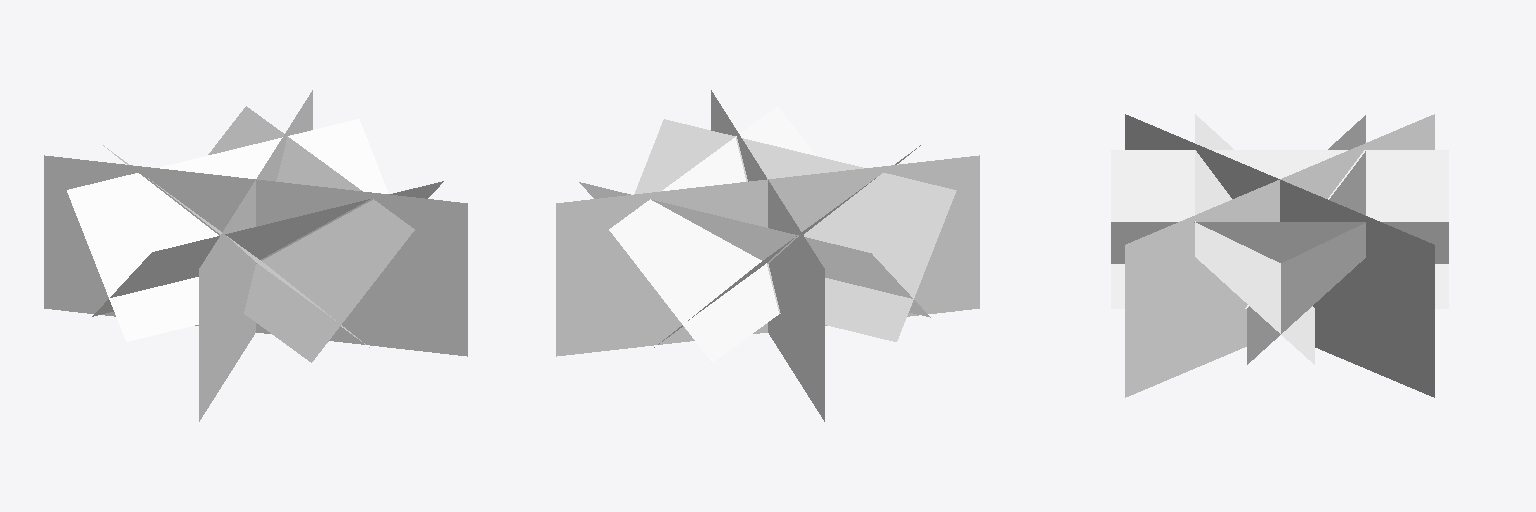
The model's file is spruce_half_top.obj.
3 renders of one model, left to right at view 1: azimuth 30°, elevation 25°; view 2: azimuth 150°, elevation 25°; view 3: azimuth 270°, elevation 25°, orthographic.
Parts seen in each view (by area): view 1: cube.000, cube.001, cube.002, cube, cube.003, cube.004; view 2: cube, cube.003, cube.002, cube.000, cube.001, cube.004; view 3: cube.000, cube, cube.004, cube.003, cube.001, cube.002.
Part boxes in pixels (x1,y1,x2,y2): cube.000: (44,155,467,356); cube.001: (67,119,388,341); cube.002: (208,106,414,362); cube: (199,90,312,421); cube.003: (92,181,443,316); cube.004: (103,145,369,347); cube: (556,155,979,356); cube.003: (635,119,956,341); cube.002: (609,106,815,362); cube.000: (711,90,824,421); cube.001: (579,182,930,317); cube.004: (654,145,920,347); cube.000: (1125,114,1434,397); cube: (1125,114,1434,397); cube.004: (1111,150,1448,308); cube.003: (1195,114,1314,364); cube.001: (1247,115,1365,364); cube.002: (1111,222,1448,263).
Bounding box in the file's own units: 2 × 1 × 2.